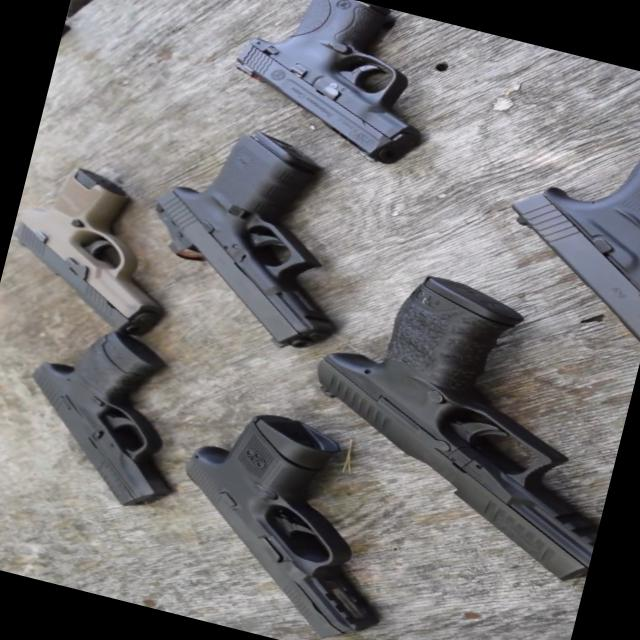handgun: (291, 234, 639, 599), (110, 90, 407, 372), (178, 382, 437, 639), (0, 296, 225, 525), (211, 0, 472, 186), (472, 76, 639, 358), (0, 136, 200, 356)
